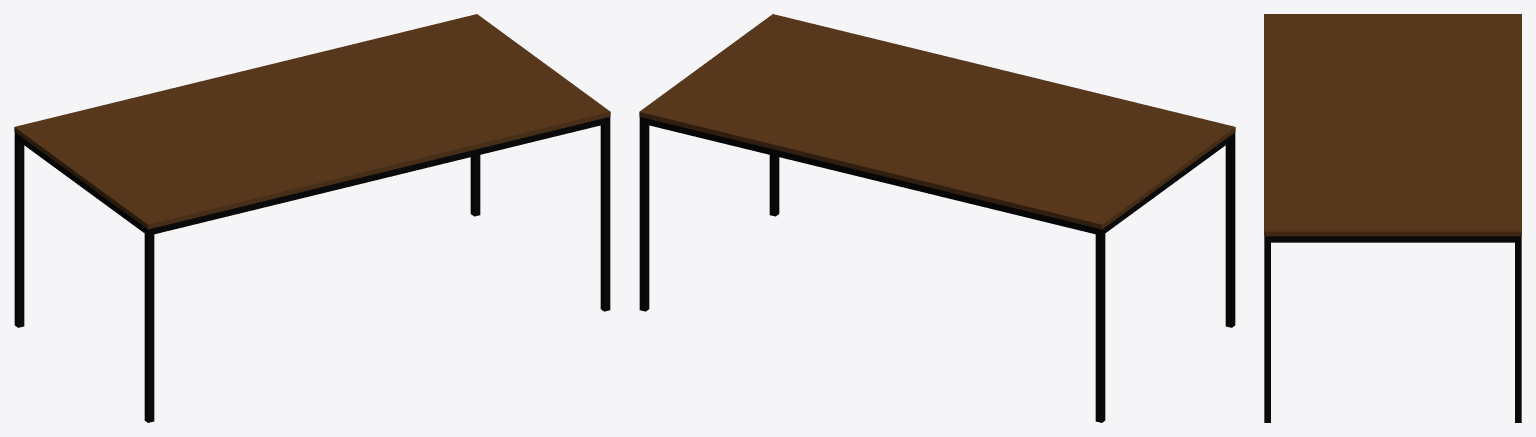
Rendered from Table_final.fbx.
3 renders of one model, left to right at view 1: azimuth 30°, elevation 25°; view 2: azimuth 150°, elevation 25°; view 3: azimuth 270°, elevation 25°, orthographic. The views are drawn at different scales.
Parts seen in each view (by area): view 1: top; view 2: top; view 3: top.
Part boxes in pixels (<box>): top: <box>14,14,610,422</box>; top: <box>639,14,1235,422</box>; top: <box>1264,14,1521,422</box>.
Size of the model in its own units: 150 by 61.5 by 75.08.
